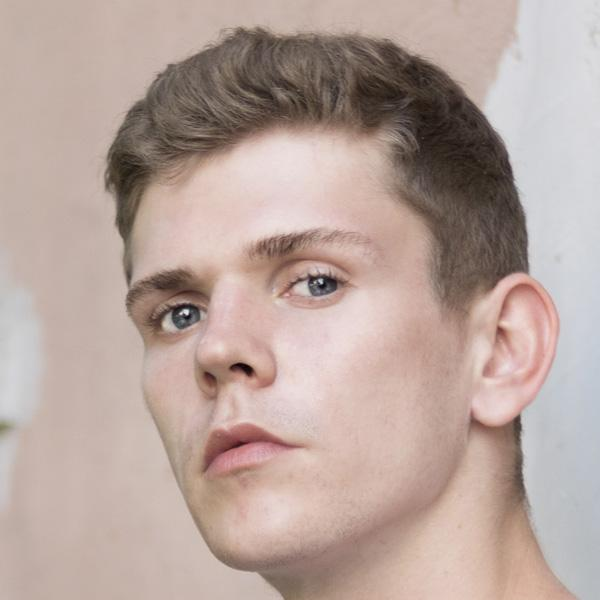Eyes: (269, 254, 361, 319), (143, 280, 216, 351)
